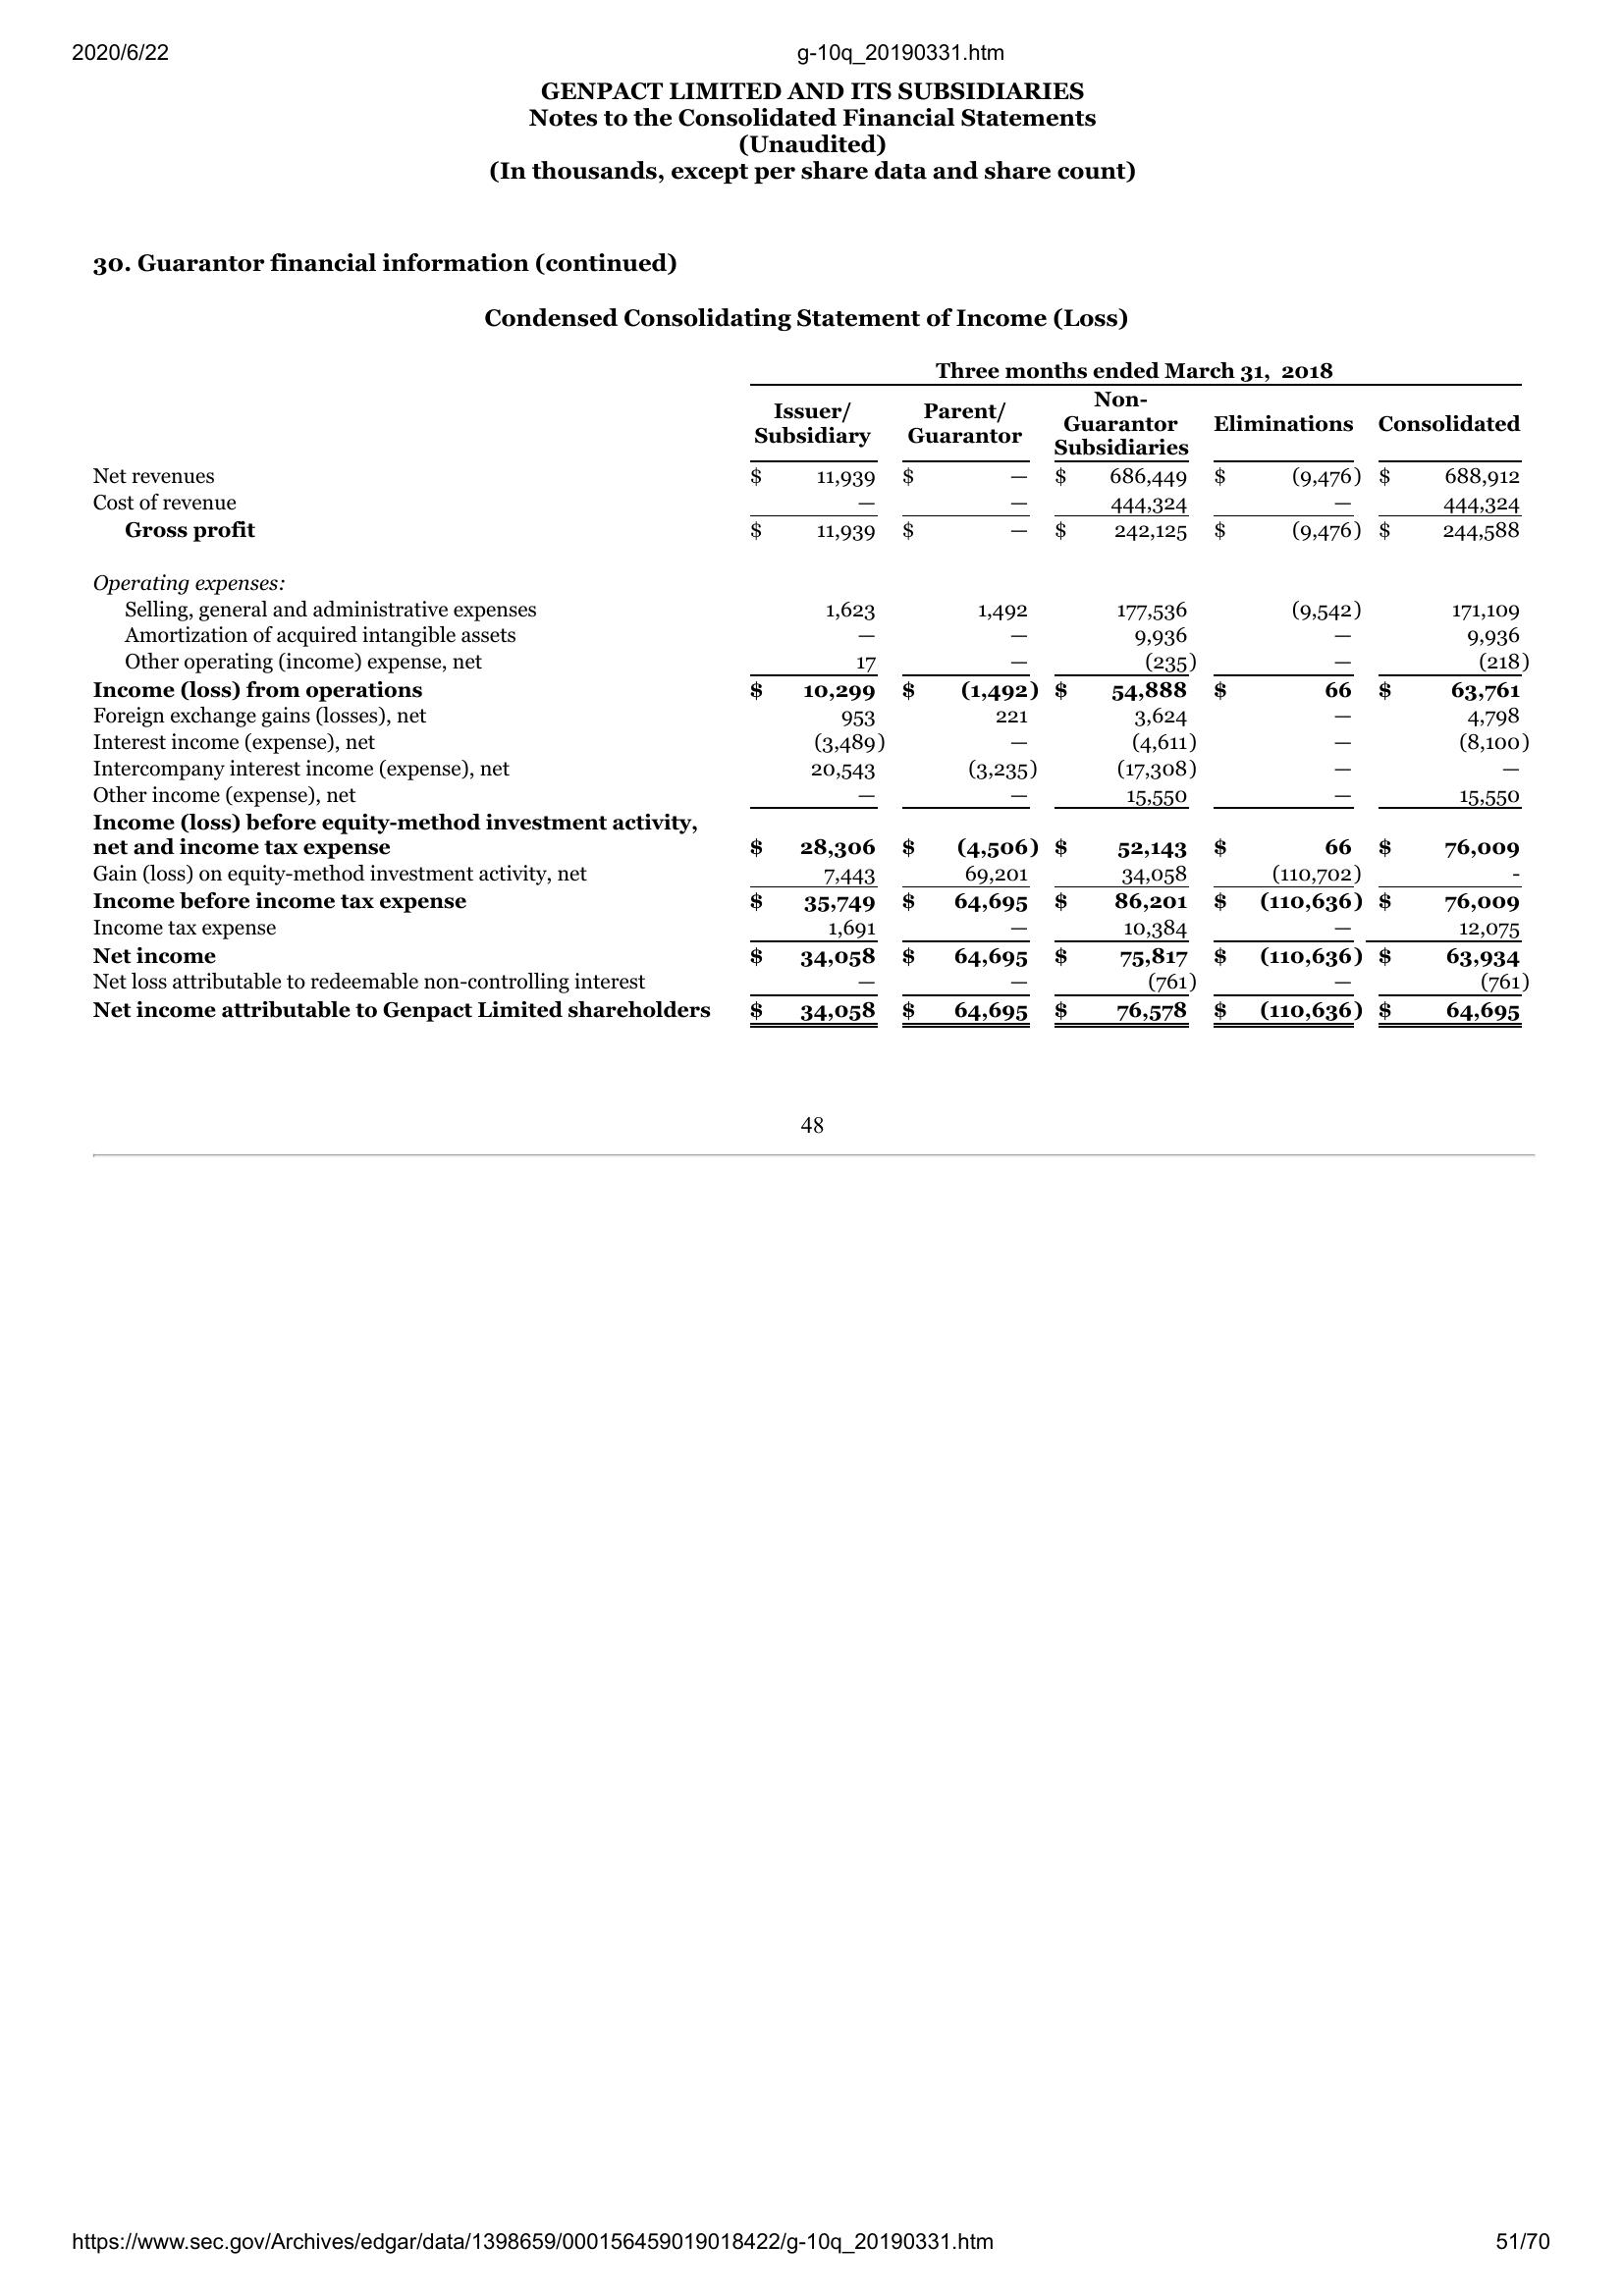table: (84, 355, 1535, 1034)
